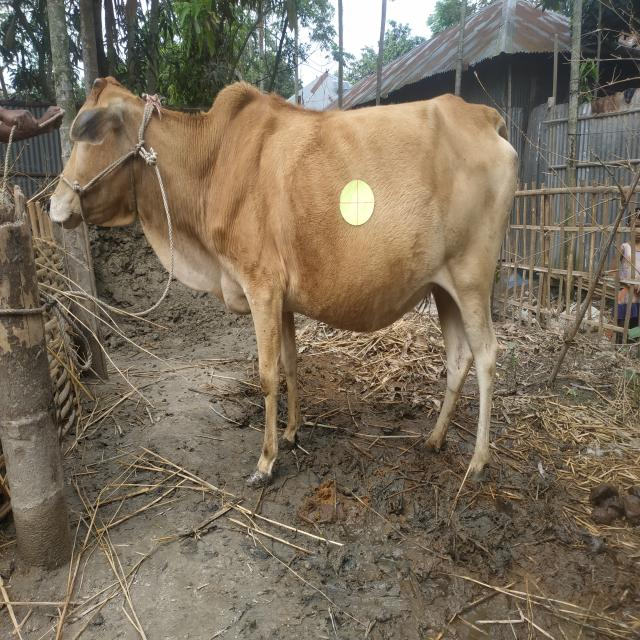badan_sapi: (206, 99, 505, 327)
sapi: (37, 62, 539, 528)
